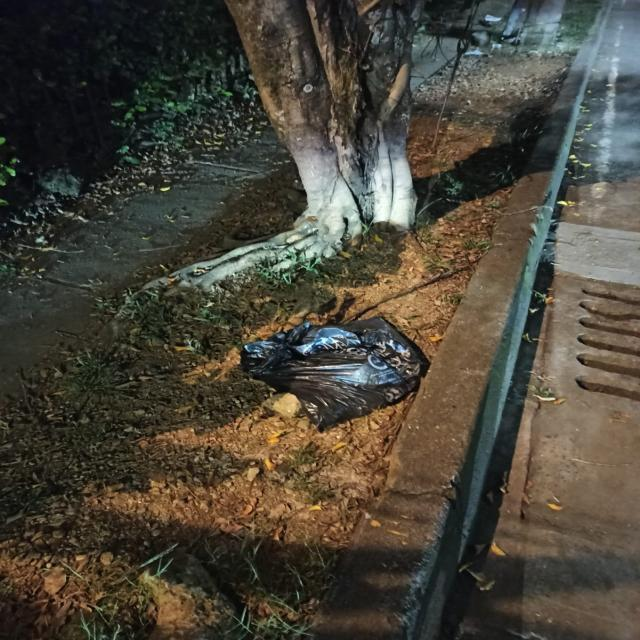Trashbag: (228, 310, 432, 431)
